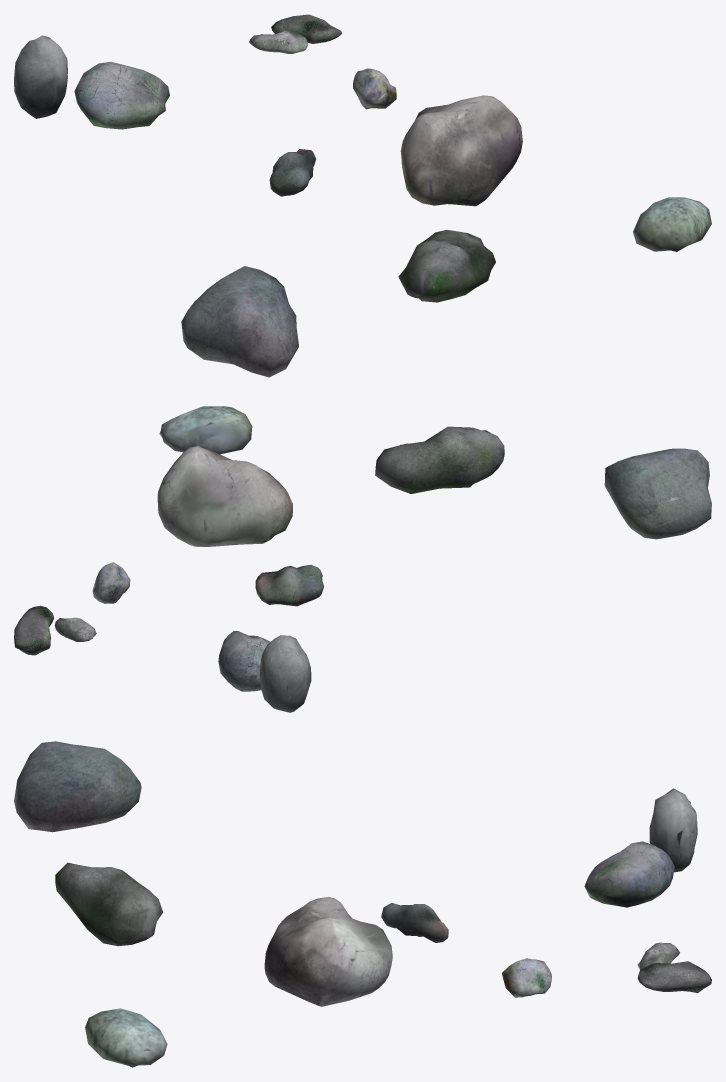
File: all_Rock.glb
The picture shows the model from 3 angles, top to bottom: view 1: azimuth 30°, elevation 25°; view 2: azimuth 150°, elevation 25°; view 3: azimuth 270°, elevation 25°; orthographic projection. The views are drawn at different scales.
Parts seen in each view (by area): view 1: Rock 05, Rock 04, Rock 07, Rock 02, Rock 08, Rock 06, Rock 09, Rock 03, Rock 10, Rock 01; view 2: Rock 05, Rock 04, Rock 07, Rock 06, Rock 08, Rock 09, Rock 02, Rock 10, Rock 03, Rock 01; view 3: Rock 05, Rock 04, Rock 07, Rock 02, Rock 06, Rock 08, Rock 10, Rock 09, Rock 03, Rock 01.
Boxes of the visible parts, x1,y1,x2,y2 form: Rock 05: (400,95,522,206); Rock 04: (181,266,298,377); Rock 07: (398,229,495,302); Rock 02: (74,61,169,129); Rock 08: (14,35,67,118); Rock 06: (633,197,711,251); Rock 09: (269,149,316,196); Rock 03: (353,68,396,109); Rock 10: (271,14,342,43); Rock 01: (249,30,307,53); Rock 05: (157,446,292,546); Rock 04: (604,448,711,539); Rock 07: (375,426,504,493); Rock 06: (159,406,252,454); Rock 08: (259,635,311,712); Rock 09: (255,565,323,606); Rock 02: (218,631,270,691); Rock 10: (14,605,53,655); Rock 03: (92,562,130,603); Rock 01: (54,617,96,641); Rock 05: (264,896,392,1006); Rock 04: (14,741,141,832); Rock 07: (55,862,162,946); Rock 02: (584,841,674,907); Rock 06: (85,1008,167,1067); Rock 08: (649,788,697,872); Rock 10: (637,961,711,992); Rock 09: (381,903,448,942); Rock 03: (502,958,551,997); Rock 01: (637,942,679,969).
Size of what is drawn, in the model's own units: 25.07 by 4.06 by 27.62.
Materials: 1 (1 with a texture image).
